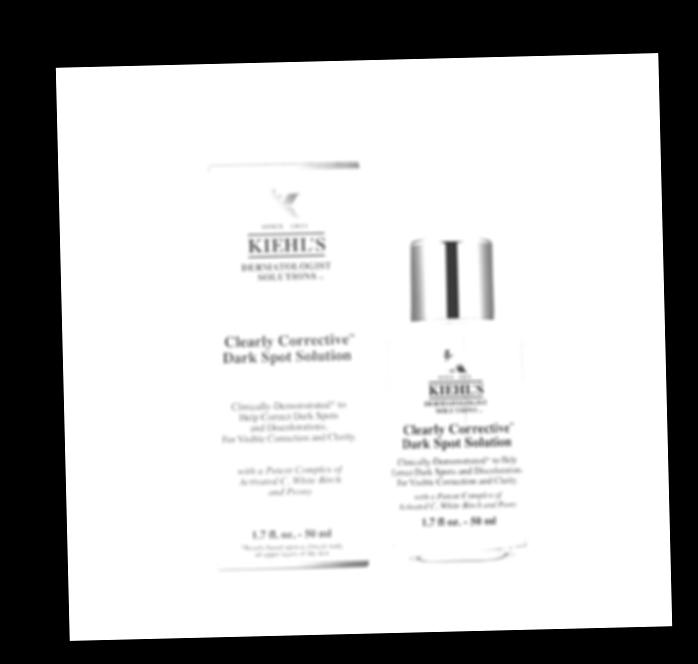cosmetic: (389, 167, 525, 551)
